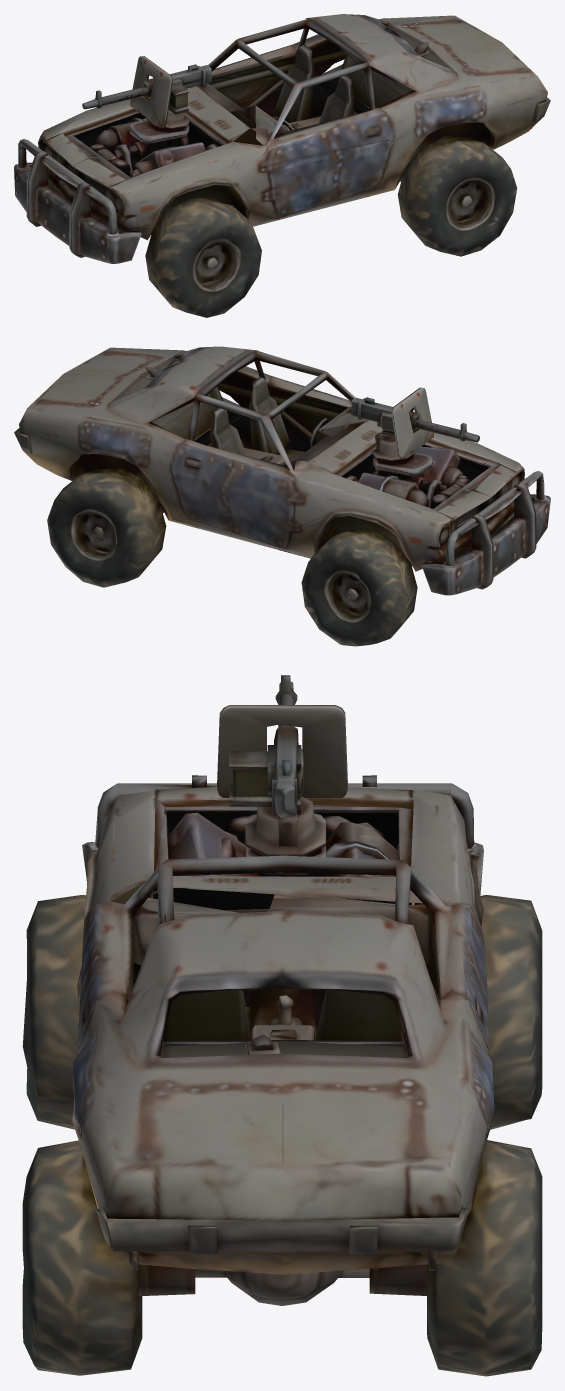
The model's file is Car_Medium.glb.
3 renders of one model, top to bottom at view 1: azimuth 30°, elevation 25°; view 2: azimuth 150°, elevation 25°; view 3: azimuth 270°, elevation 25°, orthographic. The views are drawn at different scales.
Parts seen in each view (by area): view 1: geometry_0; view 2: geometry_0; view 3: geometry_0.
Boxes of the visible parts, left/top/right/bottom form: geometry_0: left=14, top=14, right=550, bottom=317; geometry_0: left=14, top=346, right=550, bottom=646; geometry_0: left=22, top=675, right=542, bottom=1376.
Size of the model in its own units: 0.9497 by 0.4111 by 0.4663.
1 material, 1 textured.
